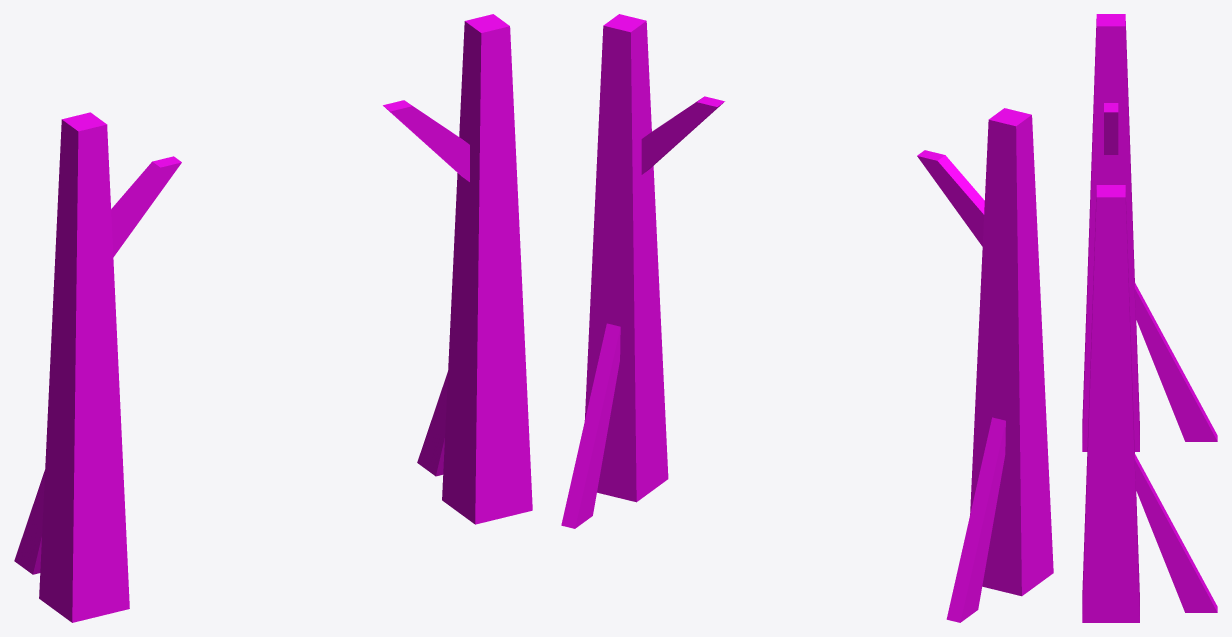
The model's file is obstical_frame.obj.
3 views of the same model, side by side, from view 1: azimuth 30°, elevation 25°; view 2: azimuth 150°, elevation 25°; view 3: azimuth 270°, elevation 25° (orthographic). The views are drawn at different scales.
Parts seen in each view (by area): view 1: obstical_frame_back; view 2: obstical_frame_back; view 3: obstical_frame_back.
Boxes of the visible parts, x1,y1,x2,y2 form: obstical_frame_back: (14, 14, 532, 622); obstical_frame_back: (561, 14, 1053, 622); obstical_frame_back: (1082, 14, 1217, 622).
Bounding box in the file's own units: 2.56 × 2.56 × 0.75.
